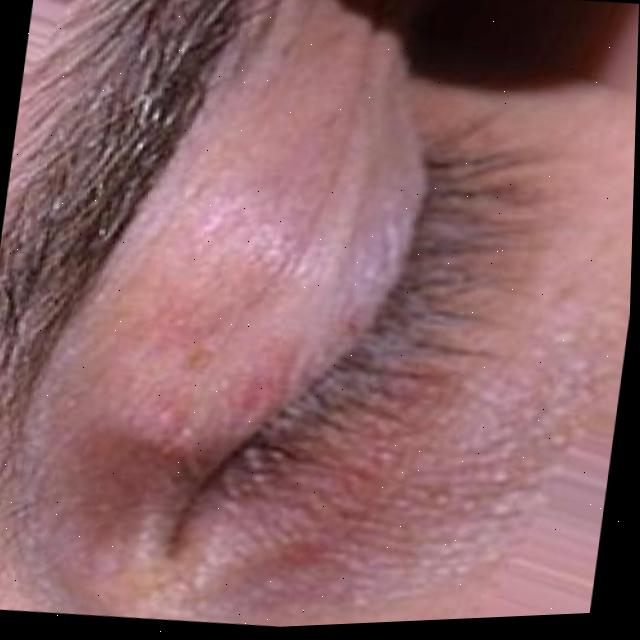Rosacea: (146, 307, 247, 410)
